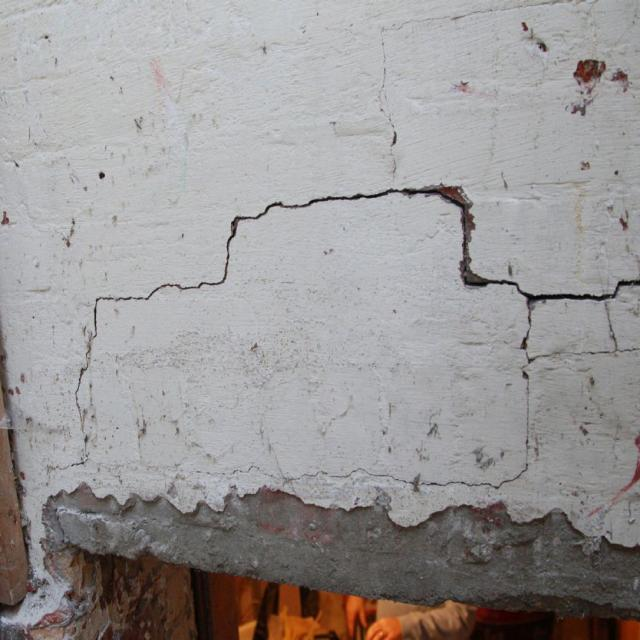Wall_Cracks: (12, 152, 640, 540)
